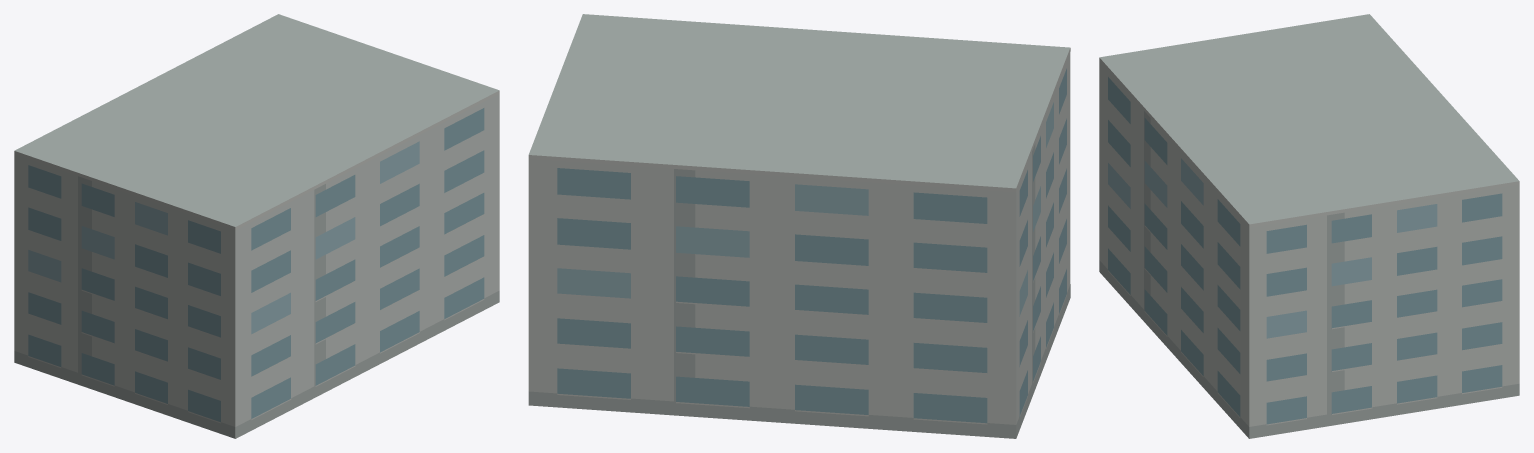
The model's file is residential-cc0abe66-5cca-4e96-a5b4-25407bf45d11.glb.
The picture shows the model from 3 angles, left to right: view 1: azimuth 30°, elevation 25°; view 2: azimuth 150°, elevation 25°; view 3: azimuth 270°, elevation 25°; orthographic projection. The views are drawn at different scales.
Parts seen in each view (by area): view 1: residential-cc0abe66-5cca-4e96-a5b4-25407bf45d11.tmp; view 2: residential-cc0abe66-5cca-4e96-a5b4-25407bf45d11.tmp; view 3: residential-cc0abe66-5cca-4e96-a5b4-25407bf45d11.tmp.
Boxes of the visible parts, x1=… form: residential-cc0abe66-5cca-4e96-a5b4-25407bf45d11.tmp: x1=14, y1=14, x2=499, y2=438; residential-cc0abe66-5cca-4e96-a5b4-25407bf45d11.tmp: x1=528, y1=14, x2=1070, y2=438; residential-cc0abe66-5cca-4e96-a5b4-25407bf45d11.tmp: x1=1099, y1=14, x2=1519, y2=438.
Bounding box in the file's own units: 32.1 × 15.25 × 27.1.
